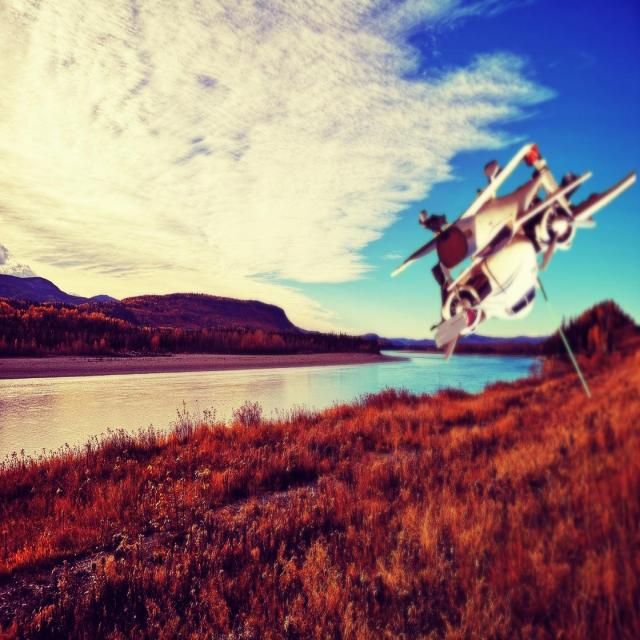airplane: (390, 142, 636, 362)
